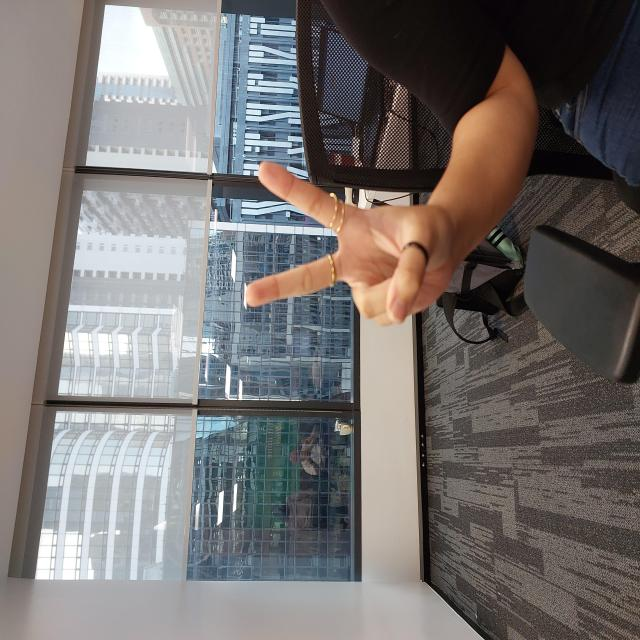V: (311, 243, 481, 459)
